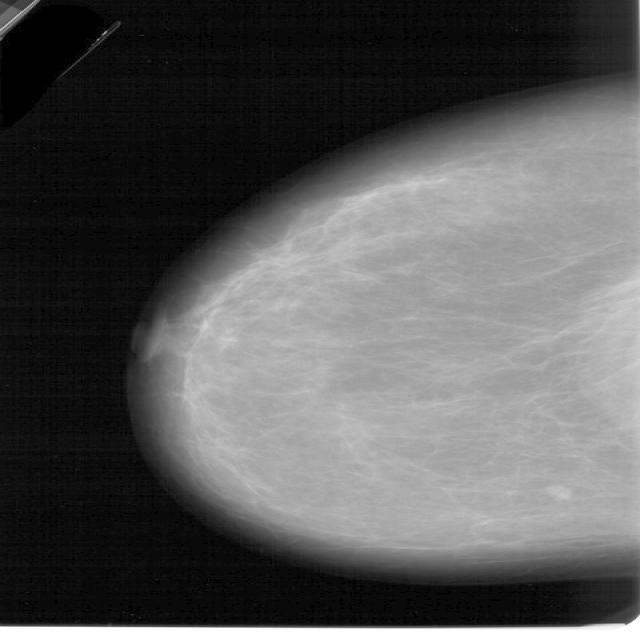tumour: (541, 483, 575, 502)
